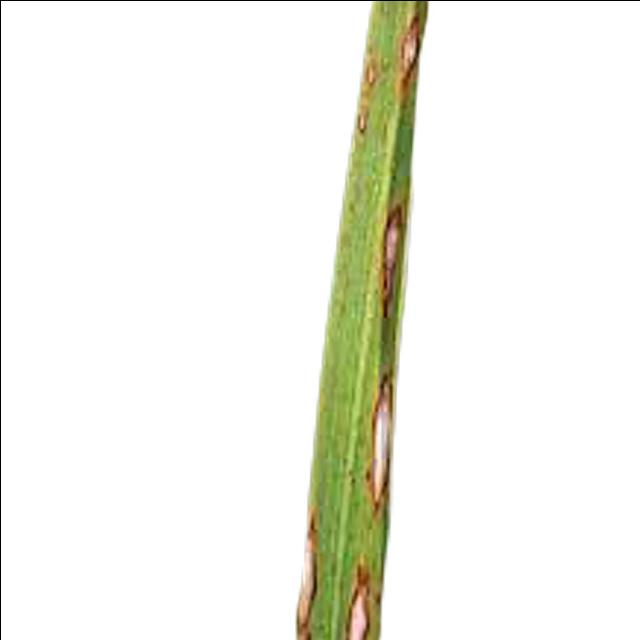Leaf blast: (226, 0, 500, 640)
